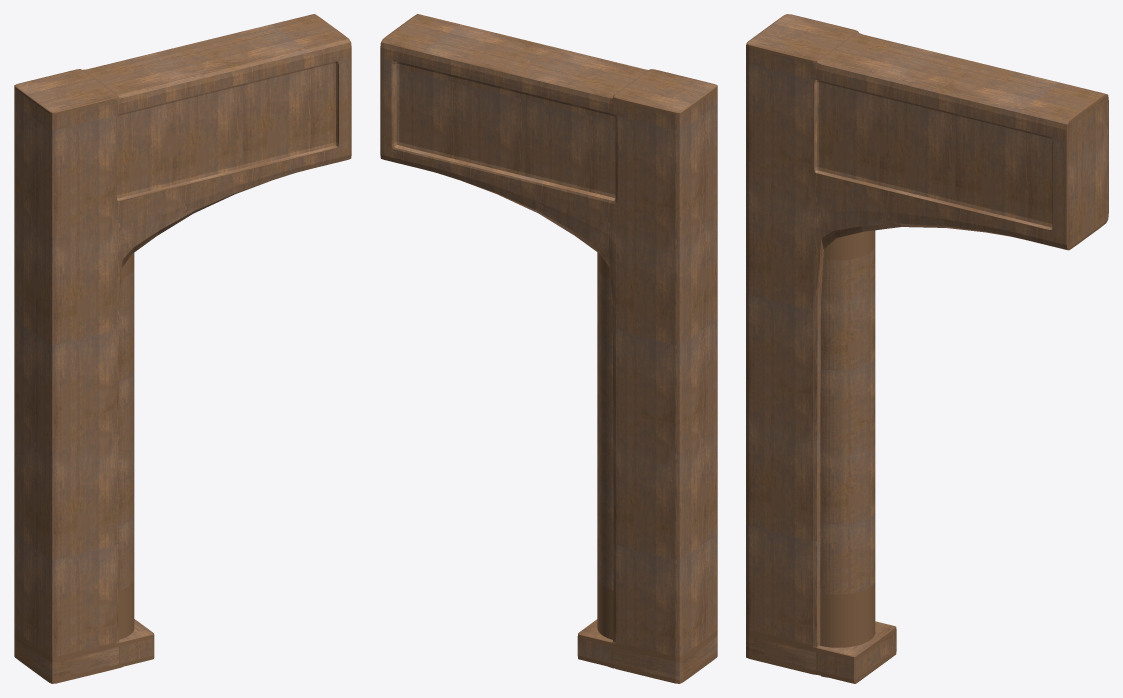
The model's file is Column01.fbx.
3 renders of one model, left to right at view 1: azimuth 30°, elevation 25°; view 2: azimuth 150°, elevation 25°; view 3: azimuth 330°, elevation 25°, orthographic. The views are drawn at different scales.
Visible parts, largest first — view 1: Column; view 2: Column; view 3: Column.
Part boxes in pixels (x1,y1,x2,y2): Column: [14, 14, 351, 683]; Column: [380, 14, 717, 683]; Column: [746, 14, 1108, 683].
Size of the model in its own units: 440 by 804 by 100.
